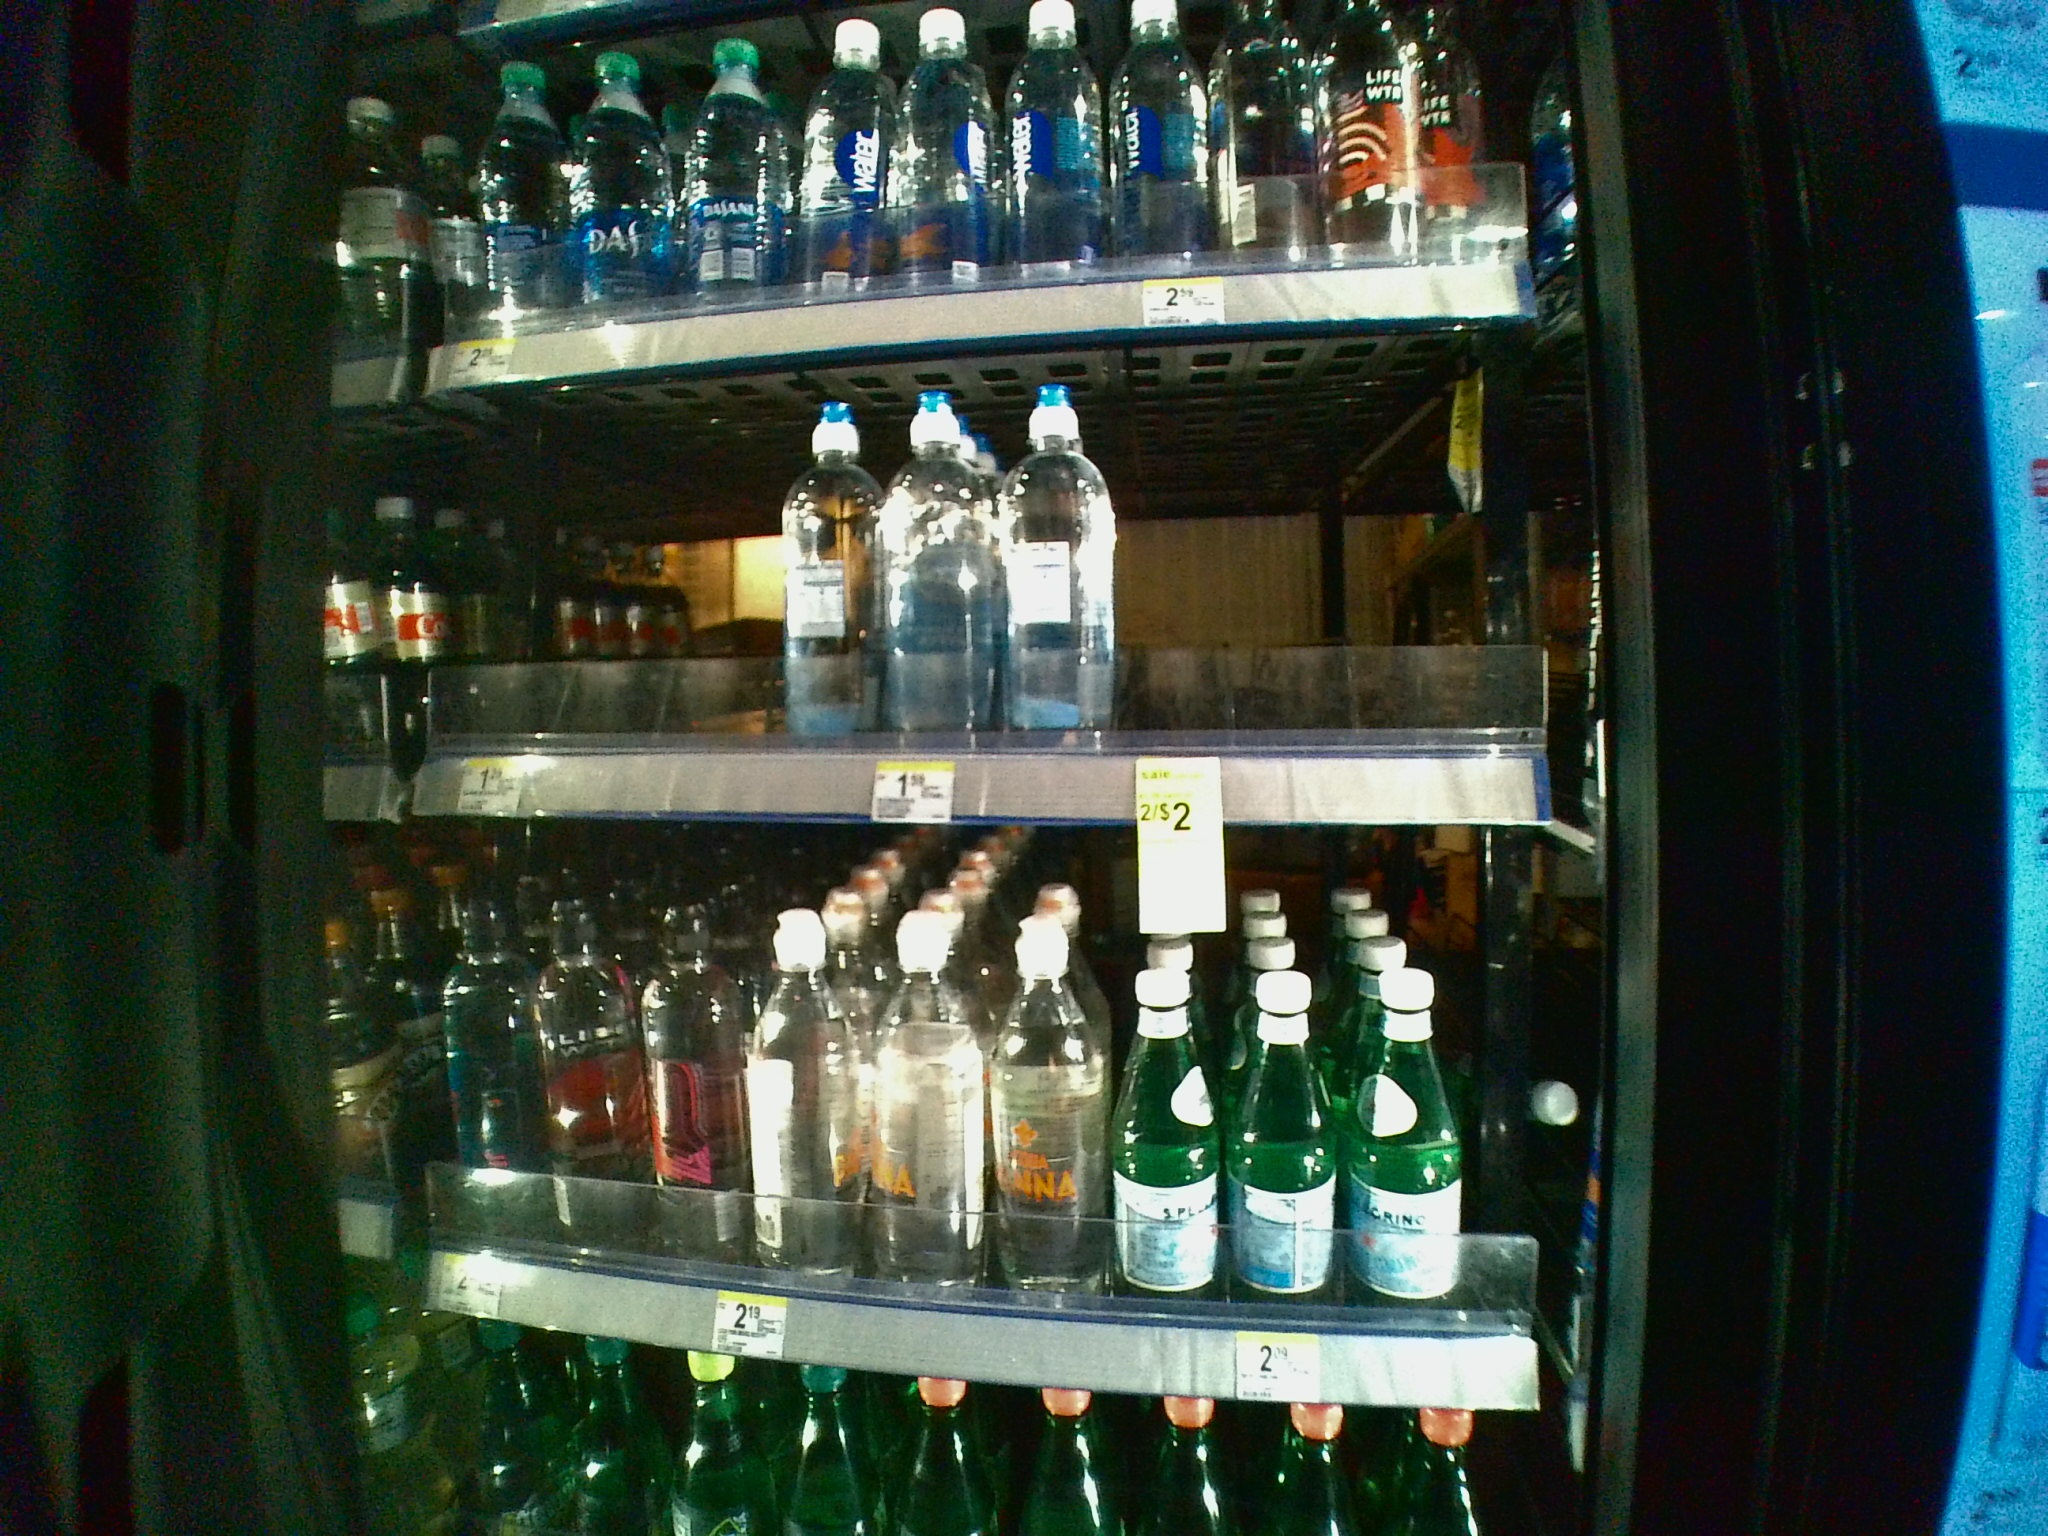Shelf: (392, 816, 1555, 1412), (390, 386, 1576, 821)
